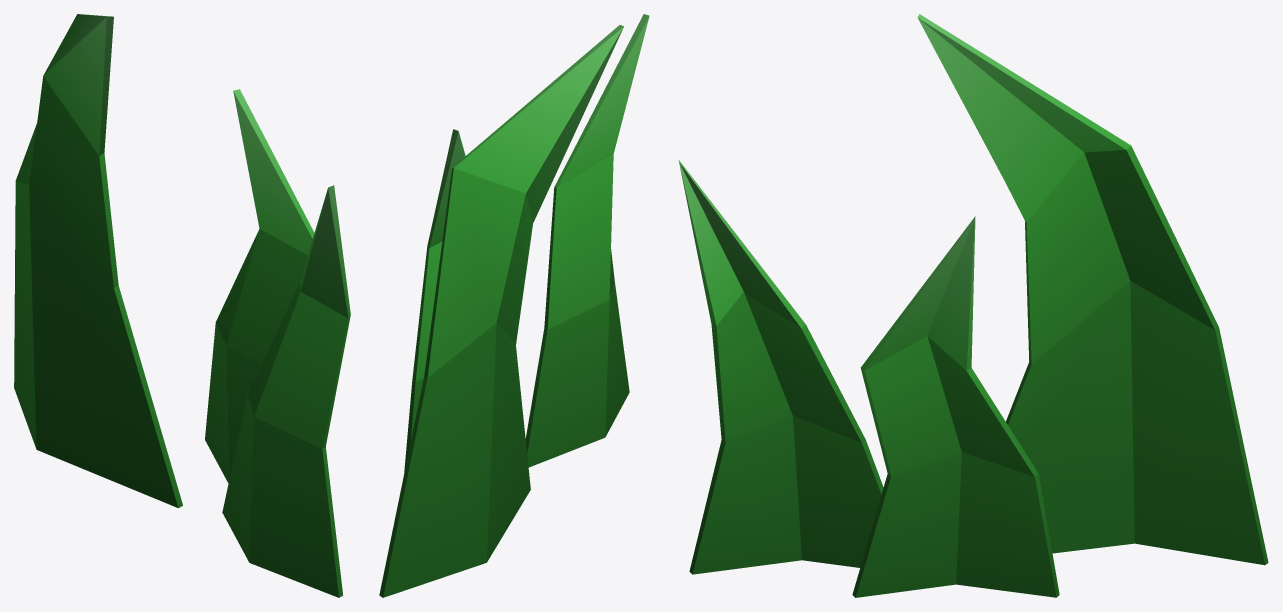
The model's file is Grass-1-4.fbx.
3 views of the same model, side by side, from view 1: azimuth 30°, elevation 25°; view 2: azimuth 150°, elevation 25°; view 3: azimuth 270°, elevation 25° (orthographic). The views are drawn at different scales.
Visible parts, largest first — view 1: Grass-1-4; view 2: Grass-1-4; view 3: Grass-1-4.
Part boxes in pixels (box(x1,y1,x2,y2)): Grass-1-4: box(14, 14, 350, 597); Grass-1-4: box(379, 14, 649, 597); Grass-1-4: box(678, 14, 1268, 597).
Bounding box in the file's own units: 11.54 × 29.66 × 31.26.
